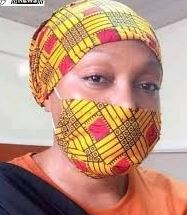with_facemask: (58, 93, 166, 193)
